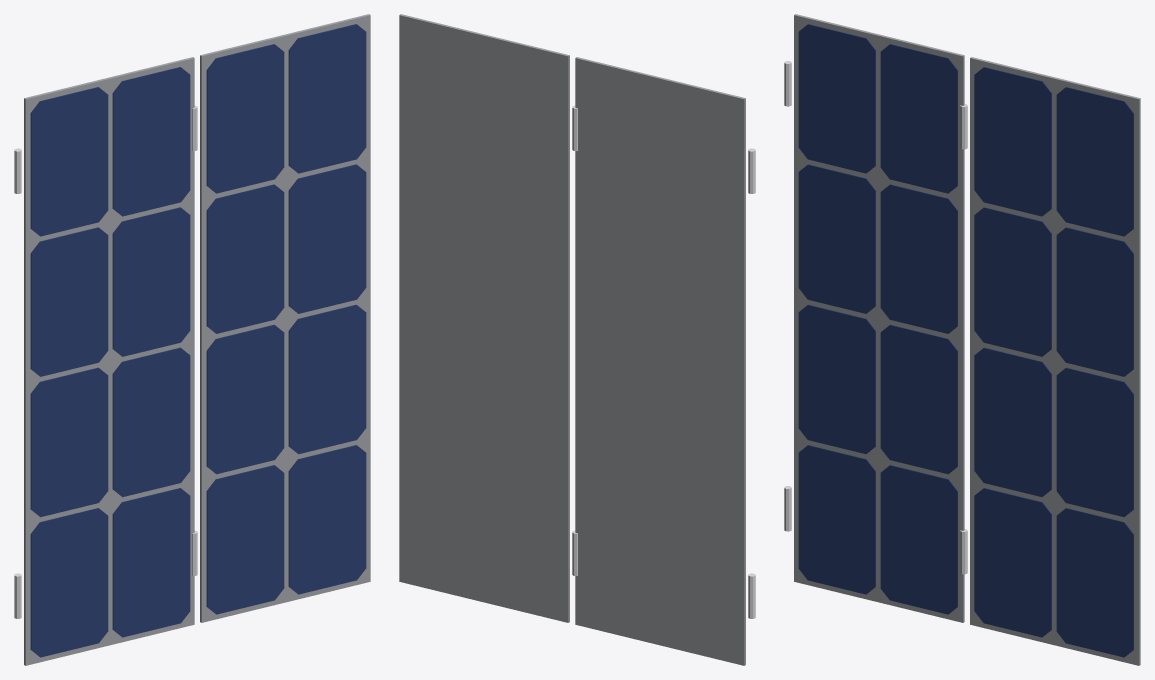
File: Part_SolarWing.fbx
3 views of the same model, side by side, from view 1: azimuth 30°, elevation 25°; view 2: azimuth 150°, elevation 25°; view 3: azimuth 330°, elevation 25° (orthographic).
Visible parts, largest first — view 1: Part_SolarWing; view 2: Part_SolarWing; view 3: Part_SolarWing.
Part boxes in pixels (left/top/right/bottom): Part_SolarWing: left=14, top=14, right=370, bottom=665; Part_SolarWing: left=399, top=14, right=755, bottom=665; Part_SolarWing: left=784, top=14, right=1140, bottom=665.
Bounding box in the file's own units: 0.21 × 0.32 × 0.004.
